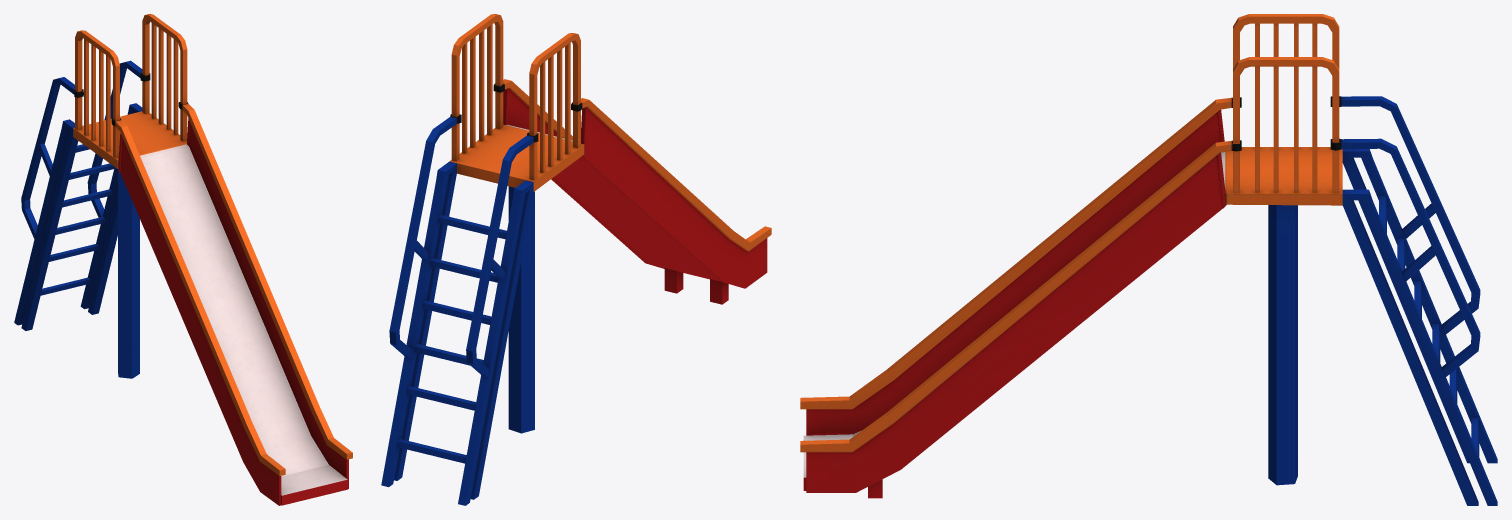
File: kaydirak.glb
3 renders of one model, left to right at view 1: azimuth 30°, elevation 25°; view 2: azimuth 150°, elevation 25°; view 3: azimuth 270°, elevation 25°, orthographic. The views are drawn at different scales.
Parts seen in each view (by area): view 1: Slide_Mesh; view 2: Slide_Mesh; view 3: Slide_Mesh.
Boxes of the visible parts, <box> form: Slide_Mesh: <box>14,14,352,505</box>; Slide_Mesh: <box>381,14,771,505</box>; Slide_Mesh: <box>800,14,1497,505</box>.
Size of the model in its own units: 1.11 by 4.72 by 6.69.
Materials: 1 (1 with a texture image).
